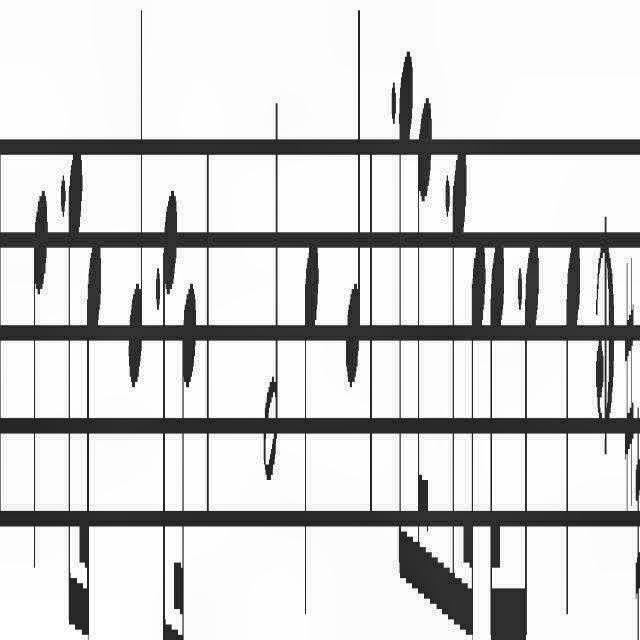Diez: (622, 273, 634, 541), (634, 412, 640, 640)
Eighth-note: (397, 42, 415, 606), (522, 236, 542, 640), (452, 145, 468, 640), (70, 145, 82, 640), (164, 186, 176, 640)
Half-note: (258, 95, 282, 501)
Quarter-note: (122, 0, 150, 434), (301, 219, 325, 633), (28, 170, 50, 580), (560, 226, 582, 626), (345, 1, 363, 400)
Sixteenth-note: (78, 222, 110, 640), (413, 62, 435, 630), (467, 232, 488, 640), (176, 284, 200, 640), (488, 212, 506, 640)
